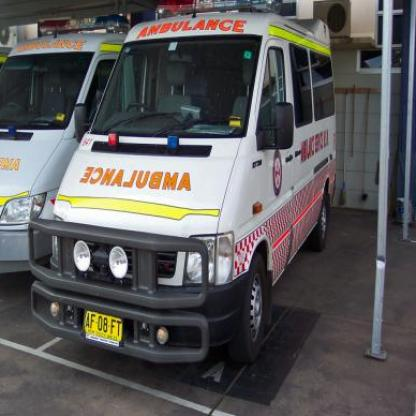truck: (26, 0, 334, 363)
